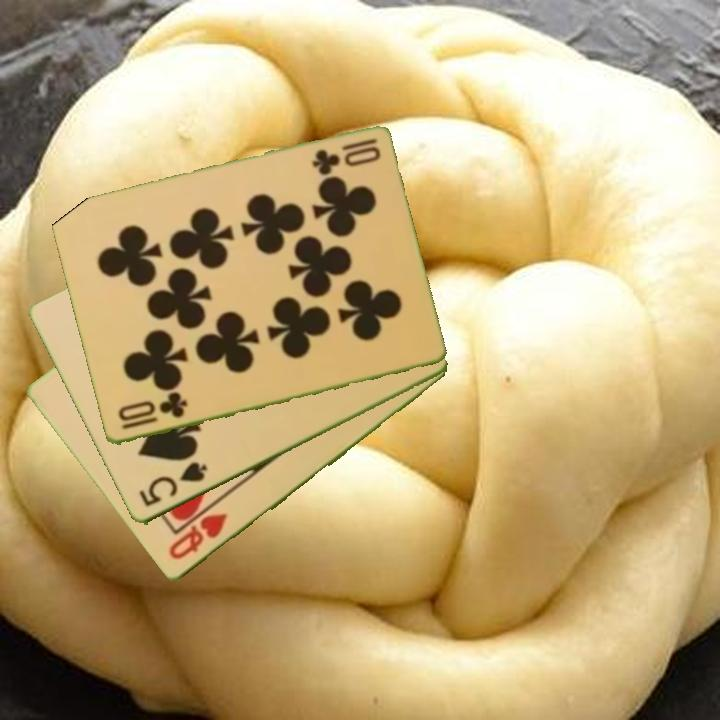10c: (114, 390, 190, 433), (308, 135, 380, 177)
5s: (135, 458, 211, 510)
Qh: (165, 510, 231, 564)
